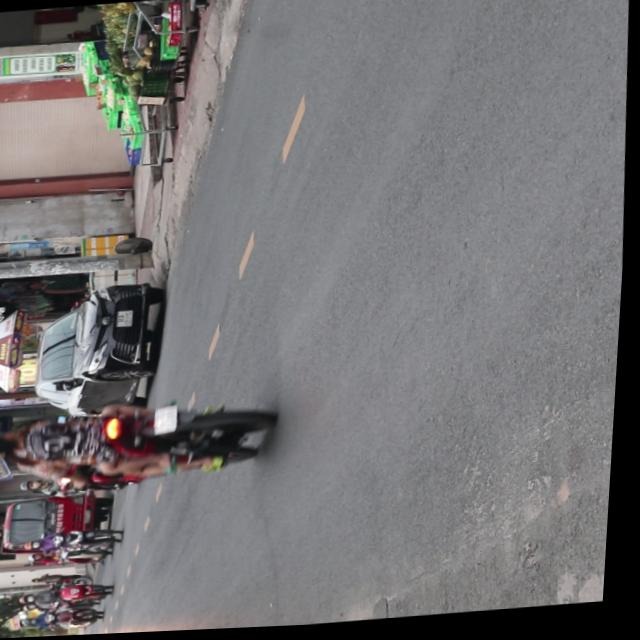helmet: (0, 431, 20, 461)
licenseplate: (0, 390, 282, 495)
motorcyclist: (0, 428, 32, 458)
nohelmet: (157, 406, 181, 434)
